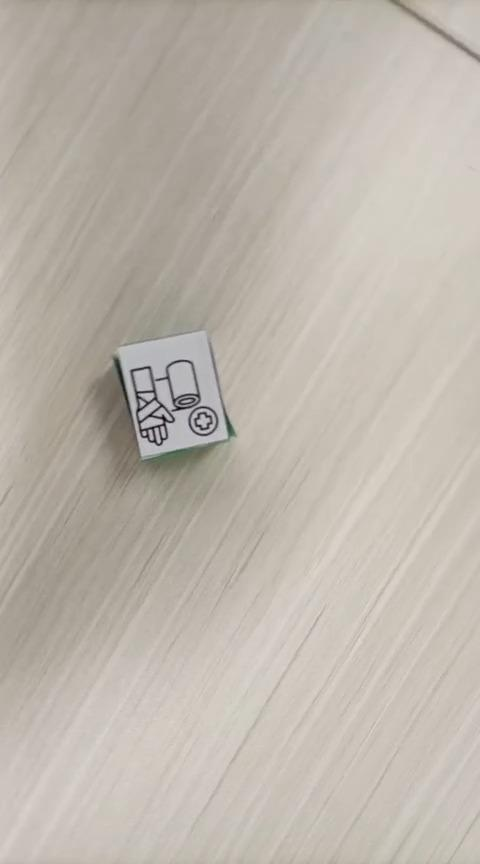Bandages: (112, 328, 237, 461)
